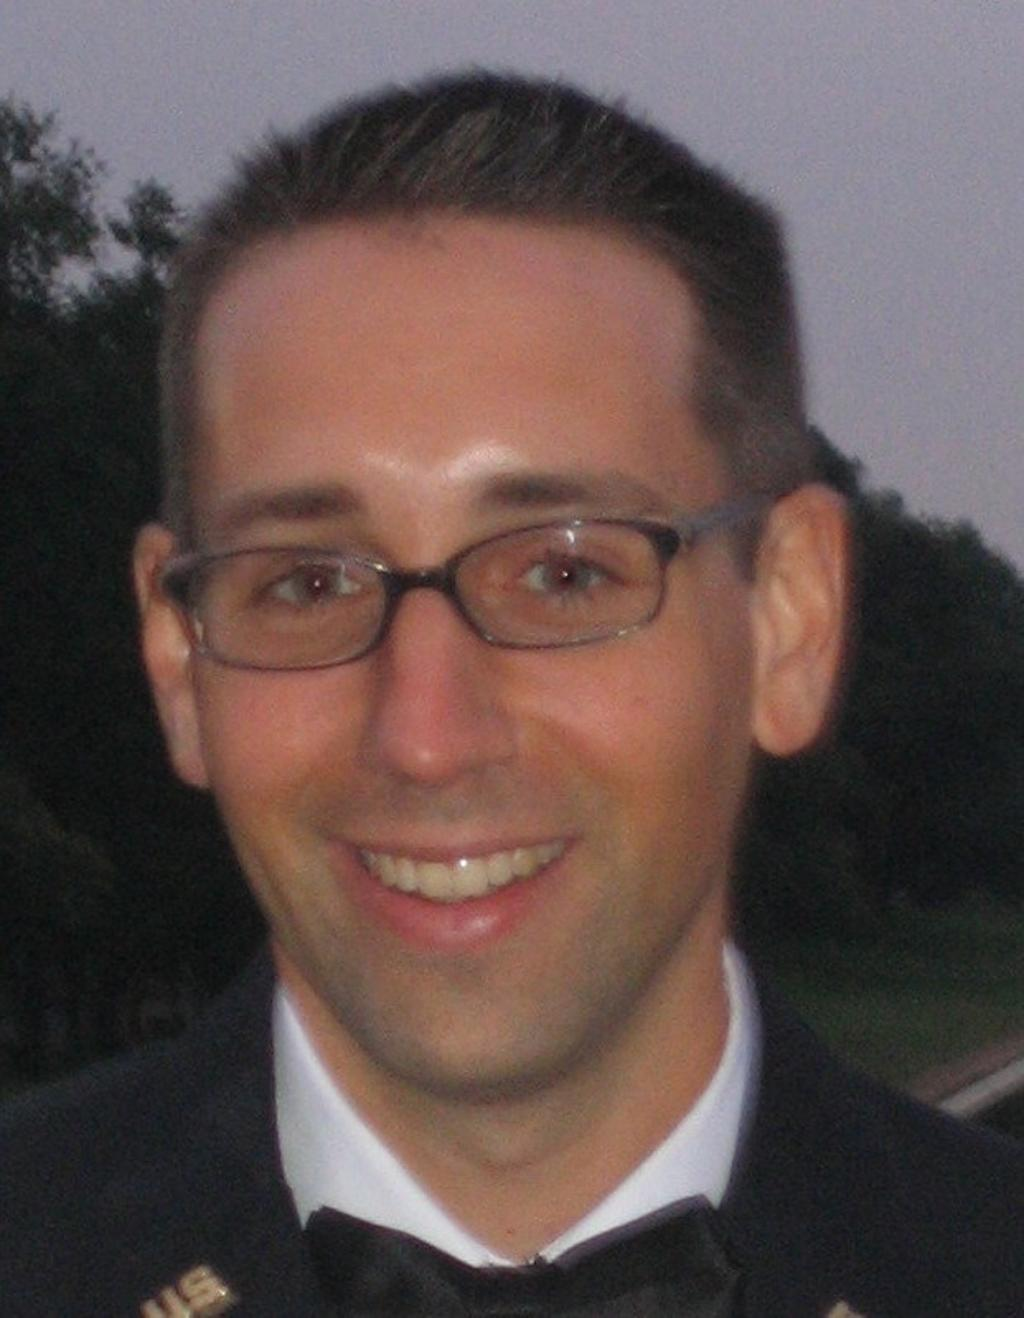face: (193, 252, 756, 1101)
